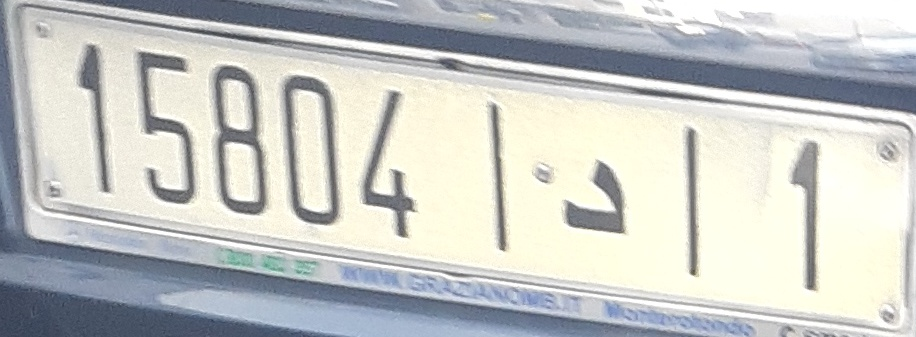0: (275, 71, 346, 232)
1: (778, 134, 834, 300), (68, 37, 122, 199)
4: (350, 84, 425, 238)
5: (132, 45, 203, 207)
8: (206, 61, 272, 220)
d: (557, 151, 635, 245)
